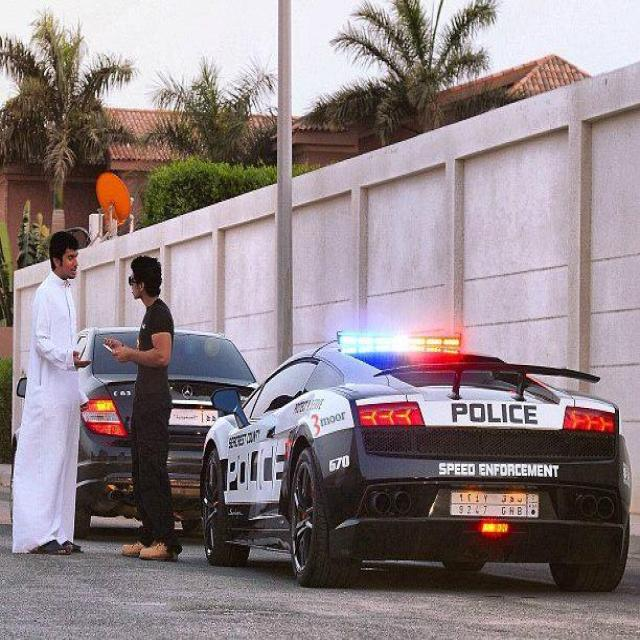license_plate: (443, 478, 543, 520)
